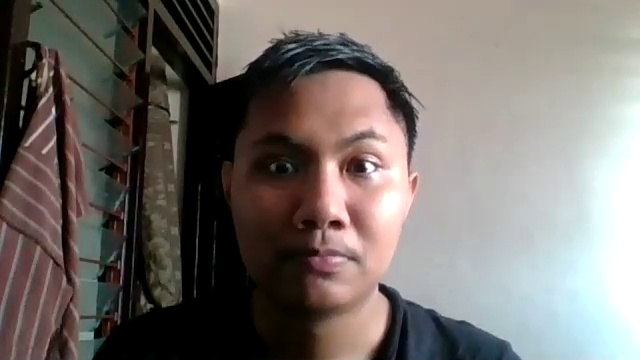Not Distracted: (212, 74, 424, 297)
